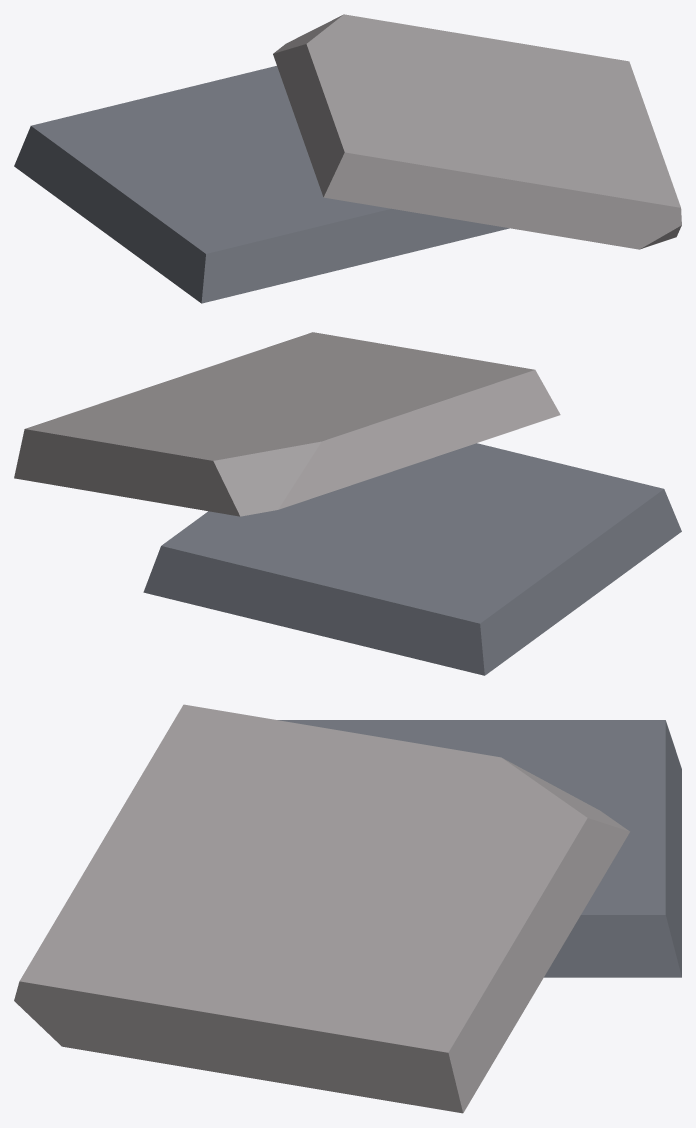
Rendered from Rock_Tiles_m_11.fbx.
3 views of the same model, one above another, from view 1: azimuth 30°, elevation 25°; view 2: azimuth 150°, elevation 25°; view 3: azimuth 270°, elevation 25° (orthographic). The views are drawn at different scales.
Visible parts, largest first — view 1: Rock_Tiles_m_11; view 2: Rock_Tiles_m_11; view 3: Rock_Tiles_m_11.
Part boxes in pixels (x1=…): Rock_Tiles_m_11: x1=14, y1=14, x2=681, y2=303; Rock_Tiles_m_11: x1=14, y1=332, x2=681, y2=675; Rock_Tiles_m_11: x1=14, y1=704, x2=681, y2=1113.
Bounding box in the file's own units: 65.39 × 14.19 × 54.13.
